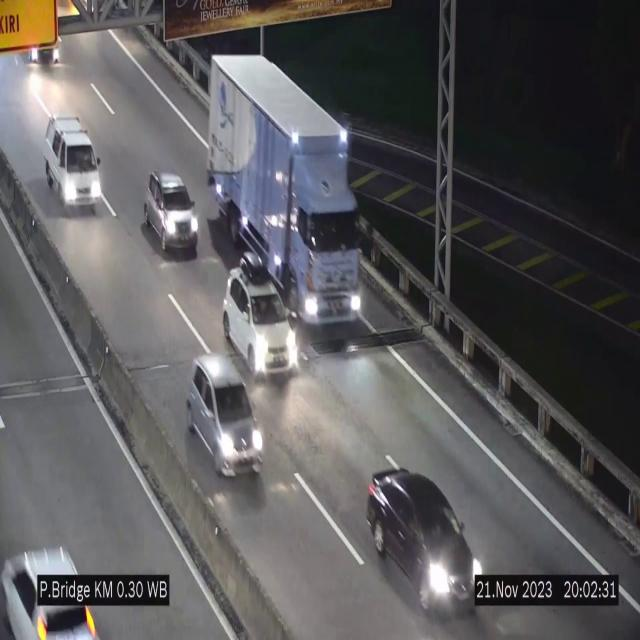Car: (367, 462, 488, 612), (0, 511, 102, 640), (222, 255, 298, 379), (187, 356, 263, 476), (45, 116, 106, 214), (144, 172, 199, 256)
Truck: (207, 49, 363, 324)
